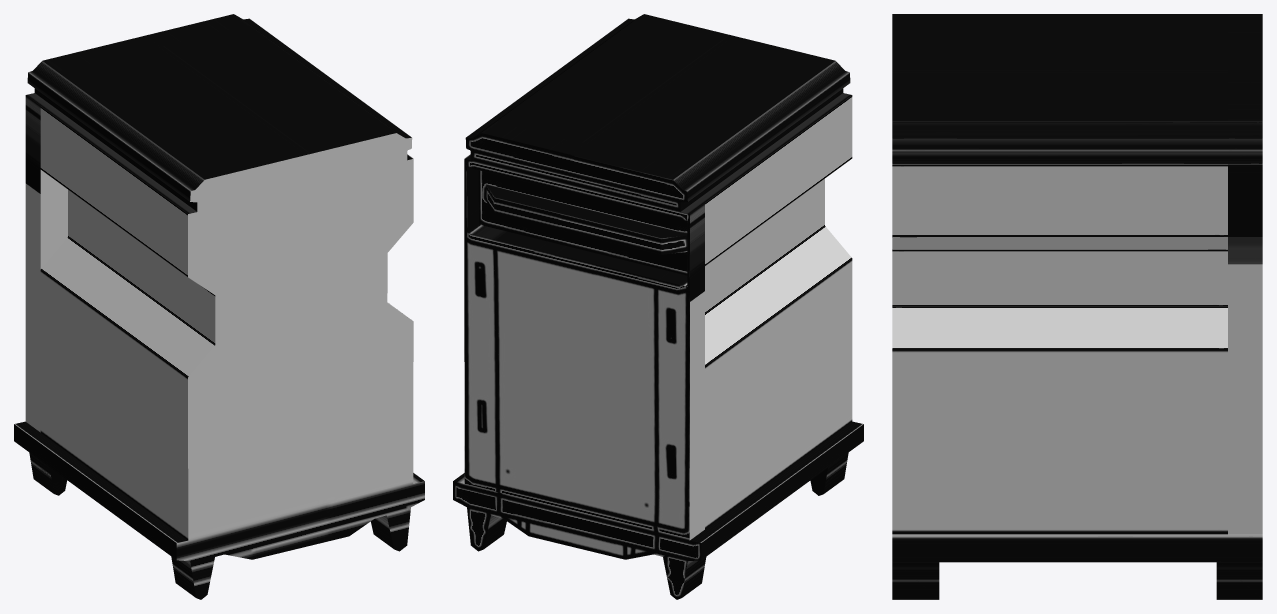
Rendered from buildUnit.fbx.
The picture shows the model from 3 angles, left to right: view 1: azimuth 30°, elevation 25°; view 2: azimuth 150°, elevation 25°; view 3: azimuth 270°, elevation 25°; orthographic projection. The views are drawn at different scales.
Visible parts, largest first — view 1: BuildUnit; view 2: BuildUnit; view 3: BuildUnit.
Part boxes in pixels (x1,y1,x2,y2): BuildUnit: [14, 14, 424, 599]; BuildUnit: [453, 14, 863, 599]; BuildUnit: [892, 14, 1262, 599].
Bounding box in the file's own units: 80.74 × 130 × 91.66.
